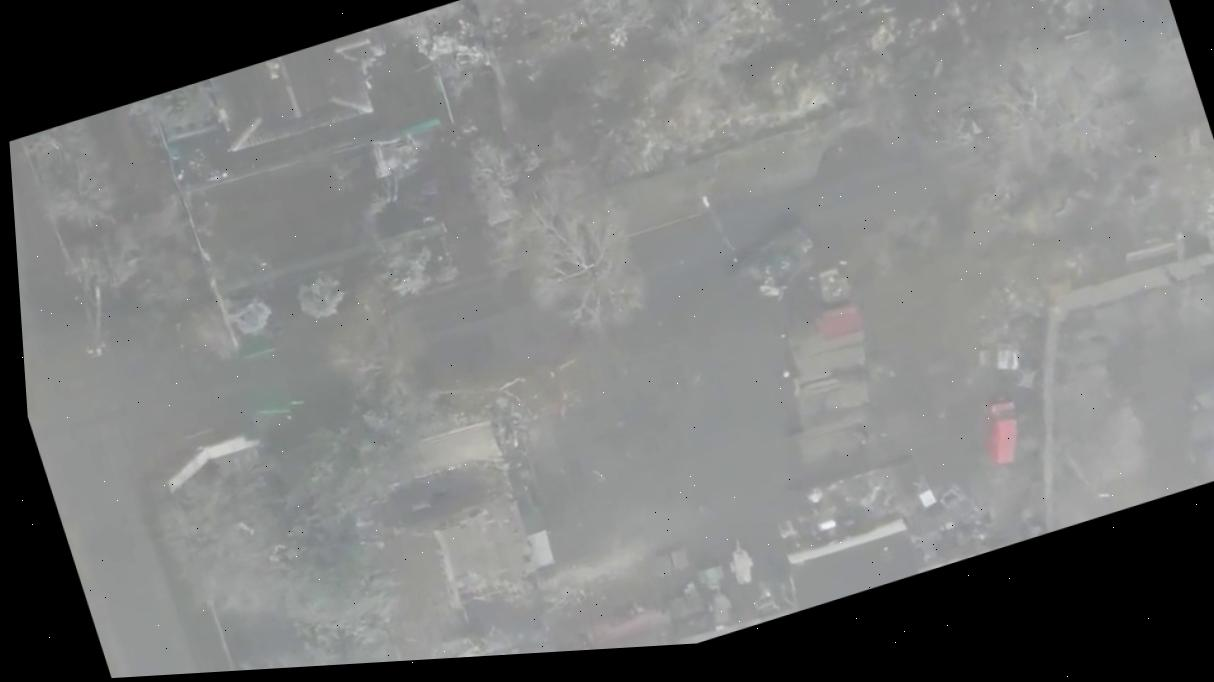tank: (725, 215, 828, 303)
